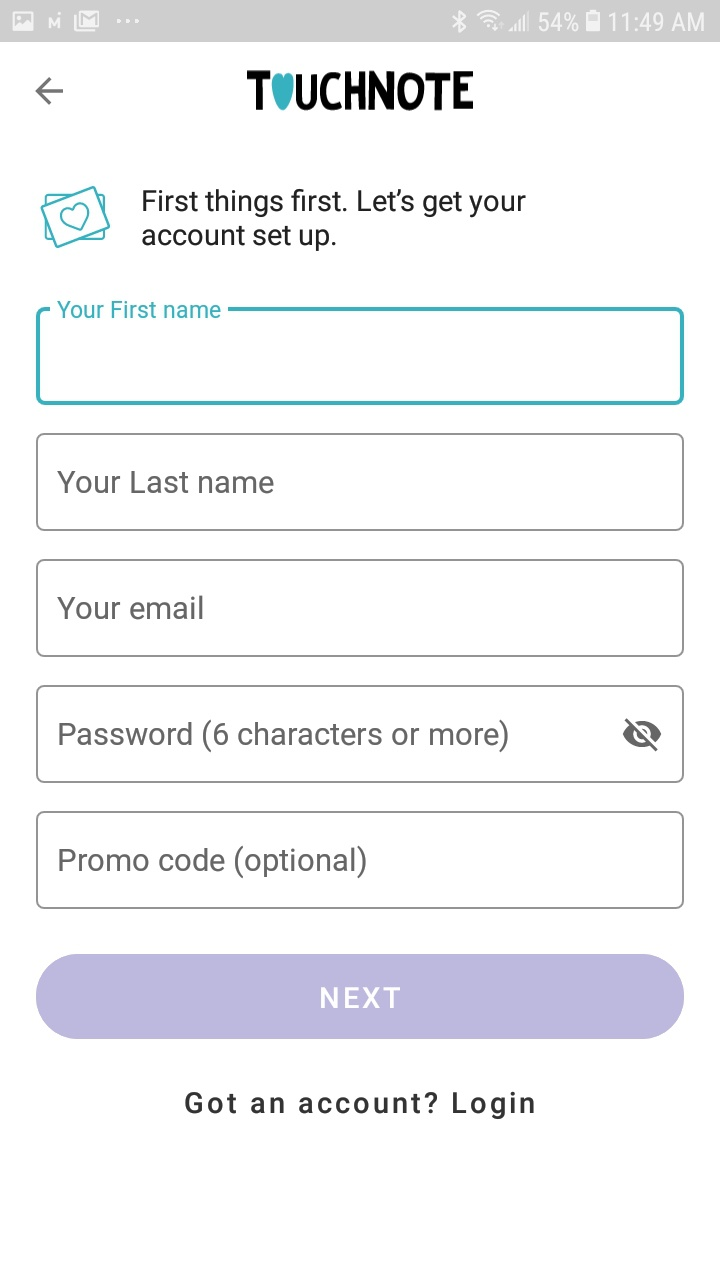EditText: (36, 300, 685, 406), (36, 811, 685, 910), (36, 685, 685, 784), (36, 559, 685, 658), (36, 433, 685, 532)
Icon: (622, 718, 662, 753), (36, 77, 65, 106)
Image: (247, 70, 474, 112), (41, 186, 112, 250)
Text: (142, 189, 527, 253), (60, 720, 509, 753), (59, 846, 368, 879), (185, 1091, 535, 1120), (57, 471, 275, 495), (58, 596, 204, 621), (58, 300, 223, 320)
TextButton: (36, 954, 684, 1040)
UpperTaskBar: (1, 1, 720, 43)
